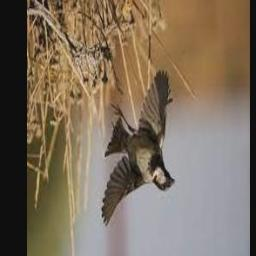Sparrow: (101, 71, 175, 227)
